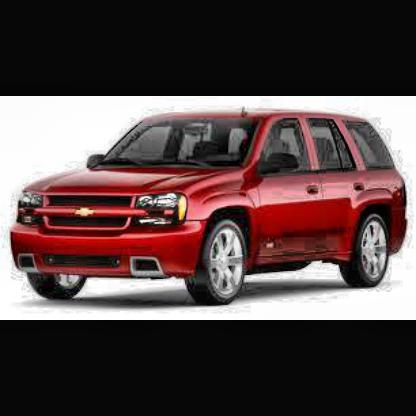Chevrolet TrailBlazer SS 2009: (8, 102, 413, 310)
